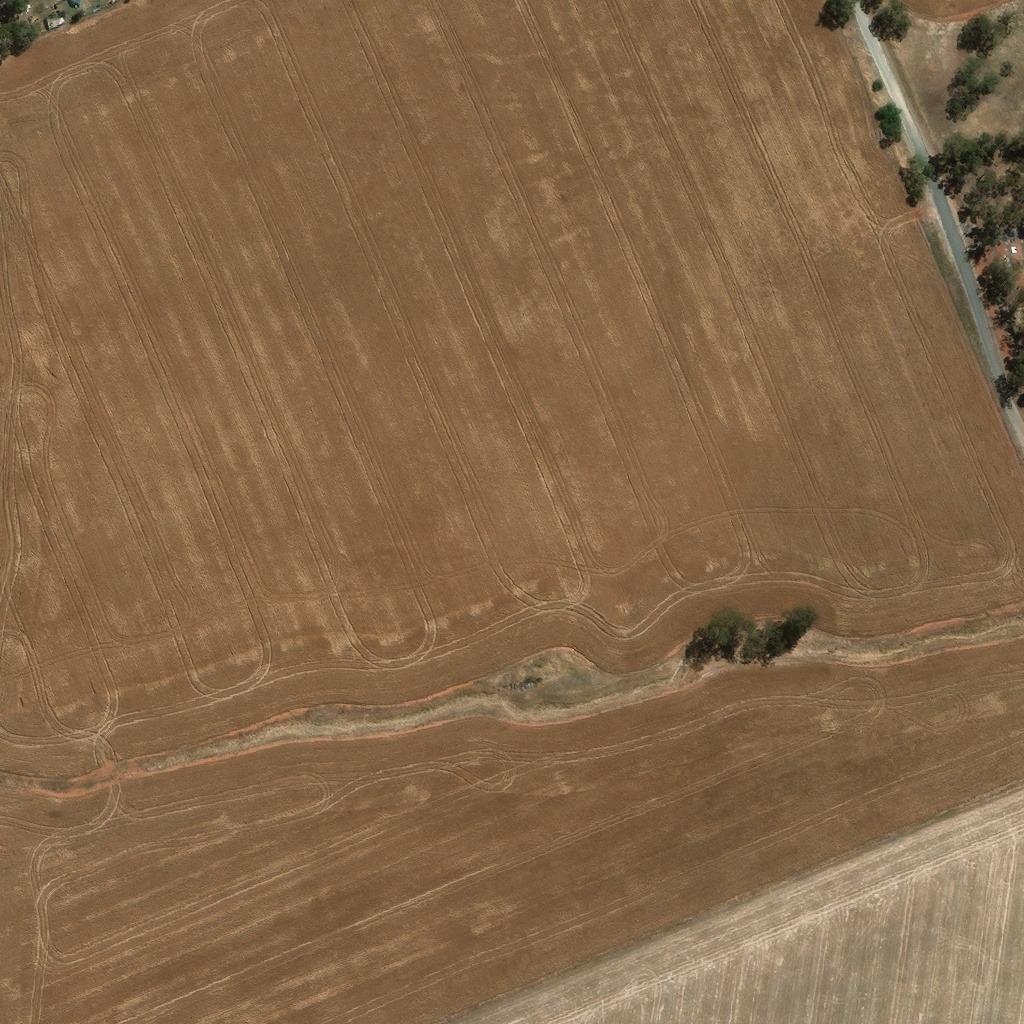0 no-damage: (45, 10, 60, 26), (1003, 251, 1011, 264), (1011, 242, 1018, 251)
